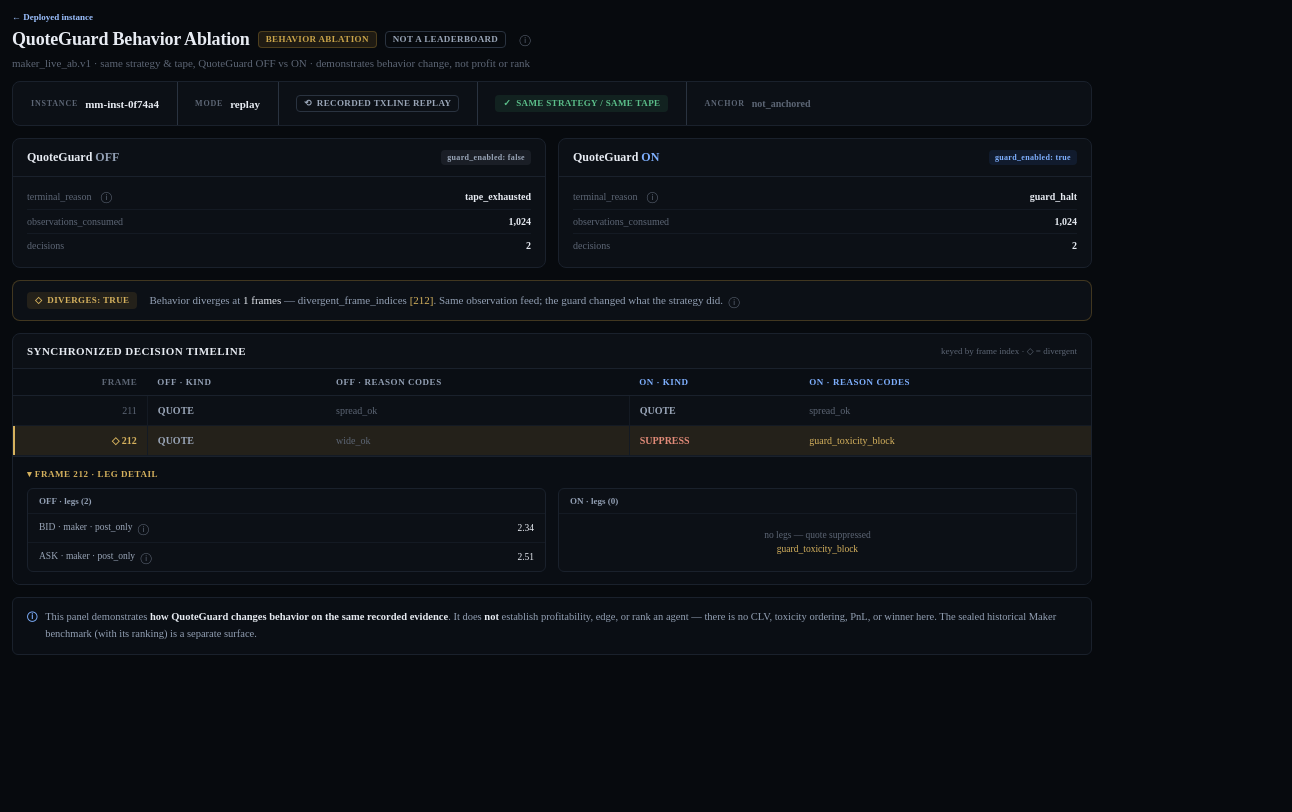
Scenario: GuardAblationScreen (F-8 · maker_live_ab.v1) › divergent frame expands to per-arm leg detail; a suppressed arm honestly shows "no legs"
Expected: the element with test id "ablation-timeline" is shown, [12, 333, 1092, 585]
Expected: the text "OFF · legs (2)" is shown, [28, 489, 545, 514]
toggling a non-divergent frame opens its detail
Click the row with test id "ablation-frame-211".
click(552, 410)  # box [13, 396, 1091, 426]
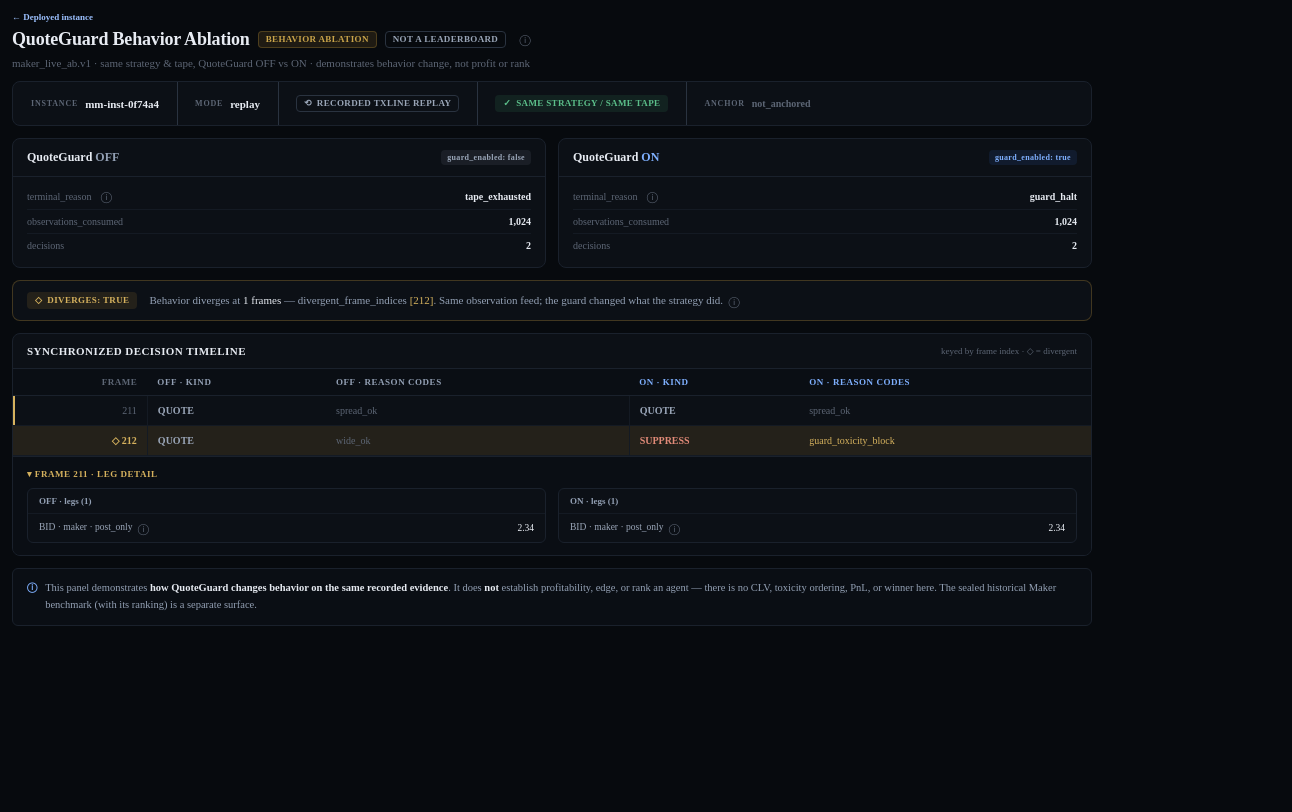
Now the element with test id "ablation-legs-211" is shown, box [13, 456, 1091, 555]
